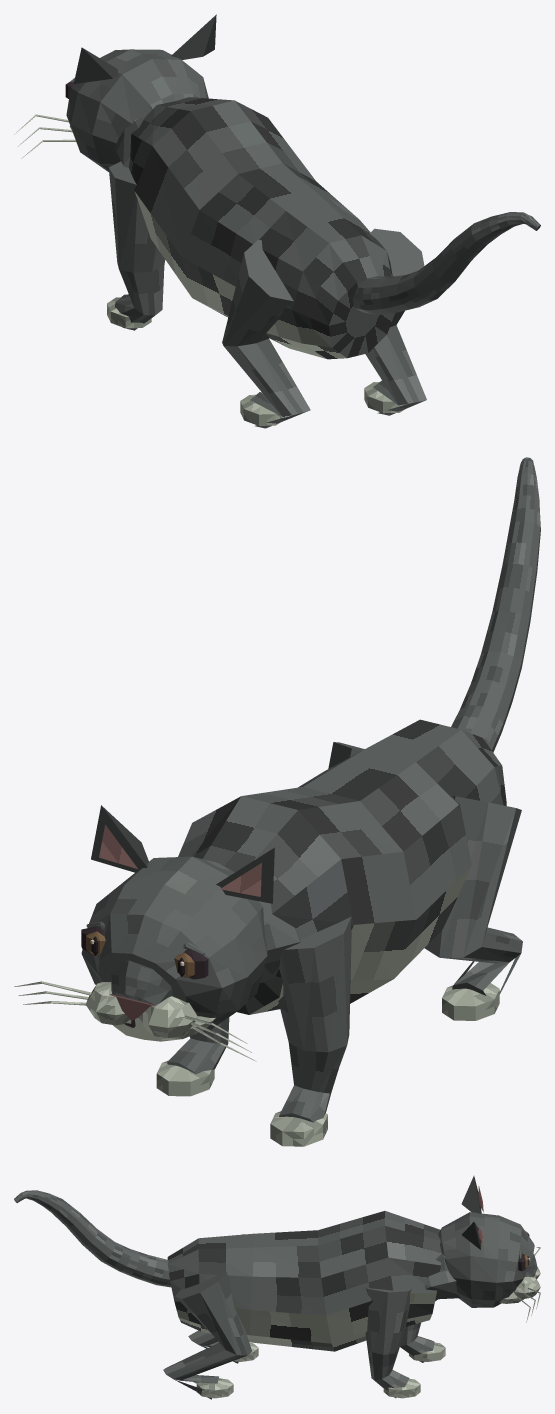
The model's file is mon_cat_kitten.glb.
The picture shows the model from 3 angles, top to bottom: view 1: azimuth 30°, elevation 25°; view 2: azimuth 150°, elevation 25°; view 3: azimuth 270°, elevation 25°; orthographic projection. The views are drawn at different scales.
Parts seen in each view (by area): view 1: closed_body; view 2: closed_body; view 3: closed_body.
Boxes of the visible parts, x1,y1,x2,y2 form: closed_body: (14, 14, 540, 428); closed_body: (14, 457, 540, 1146); closed_body: (14, 1176, 540, 1399).
Bounding box in the file's own units: 0.0972 × 0.1528 × 0.3486.
Materials: 1 (1 with a texture image).
